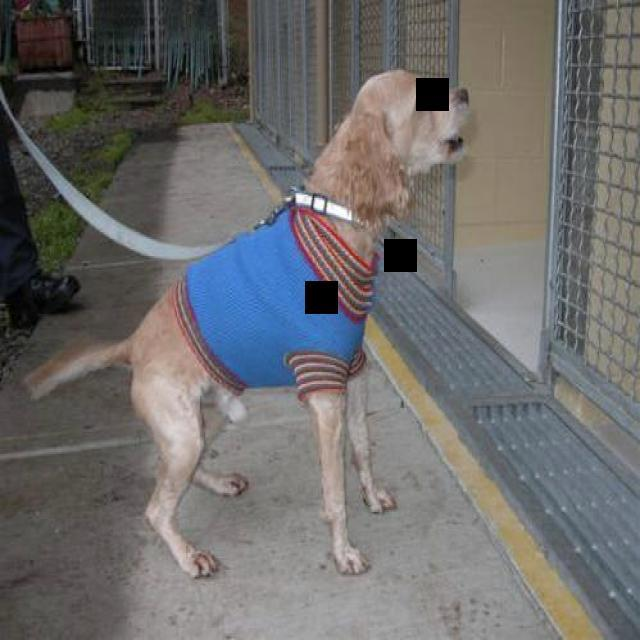adult_dog: (20, 63, 470, 582)
